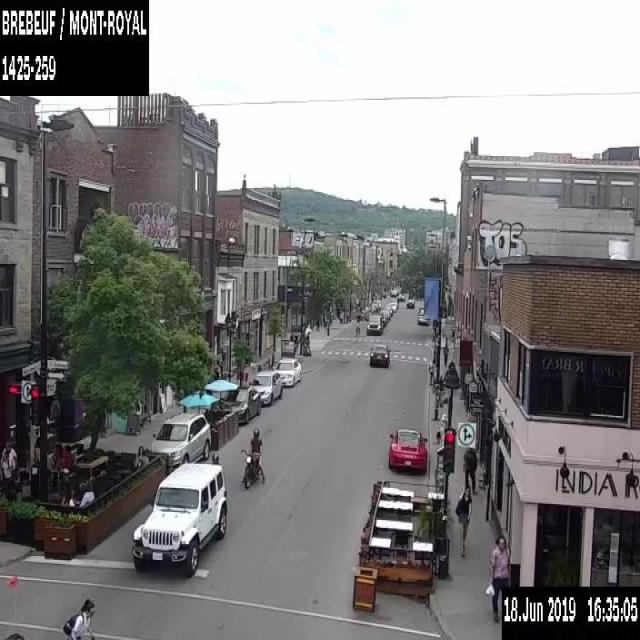cyclist: (62, 597, 94, 639)
pedestrian: (485, 536, 509, 623), (456, 486, 470, 555), (462, 445, 476, 498), (0, 440, 15, 488), (78, 482, 94, 507), (134, 445, 147, 465), (60, 489, 74, 505), (288, 329, 298, 347), (442, 342, 448, 366), (355, 317, 360, 340), (305, 330, 310, 350)
vehicle: (130, 460, 226, 575), (146, 412, 210, 466), (386, 425, 428, 472), (238, 427, 265, 489), (220, 384, 260, 422), (248, 367, 282, 406), (272, 356, 302, 386), (368, 342, 390, 367), (366, 314, 384, 334), (416, 307, 429, 324), (376, 310, 388, 324), (406, 297, 414, 308)
